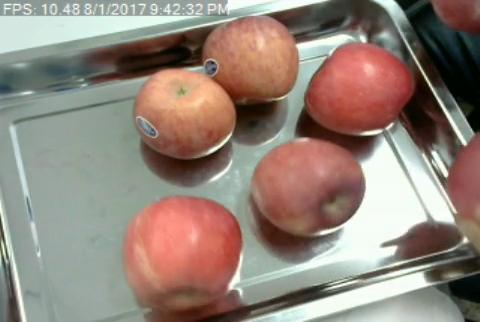apple: (122, 195, 243, 310), (250, 136, 367, 236), (304, 43, 415, 136), (132, 68, 235, 160), (202, 15, 300, 99)
